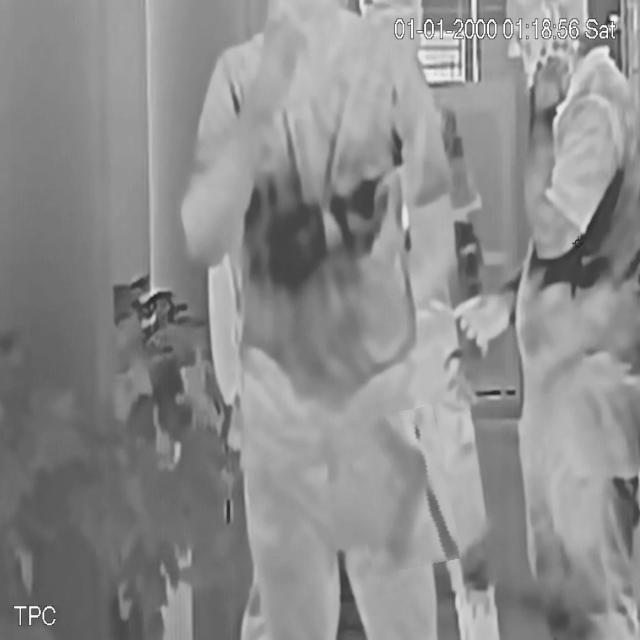Weapon: (351, 408, 455, 572)
